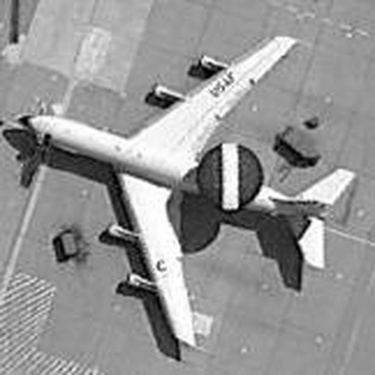airplane: (1, 25, 367, 362)
